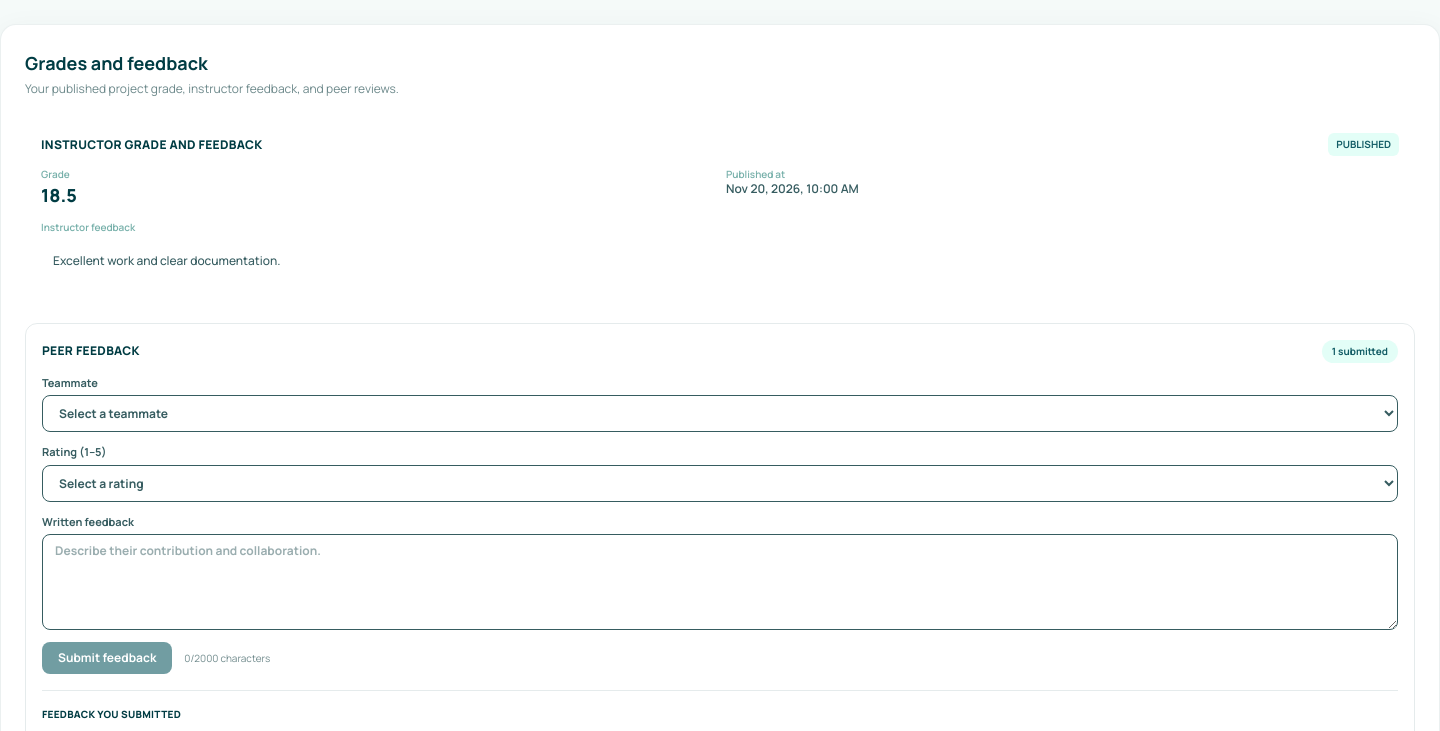
Test case: ProjectFeedbackPanel › submits and updates peer feedback only for eligible teammates
The width and height of the screenshot is (1440, 731).
expect the text "1 submitted" is shown: met, box [1322,340,1398,363]
Select "Bob Teammate (already submitted)" in the dropdown named "Teammate to review". click: (720, 414)
box: [42,395,1398,432]
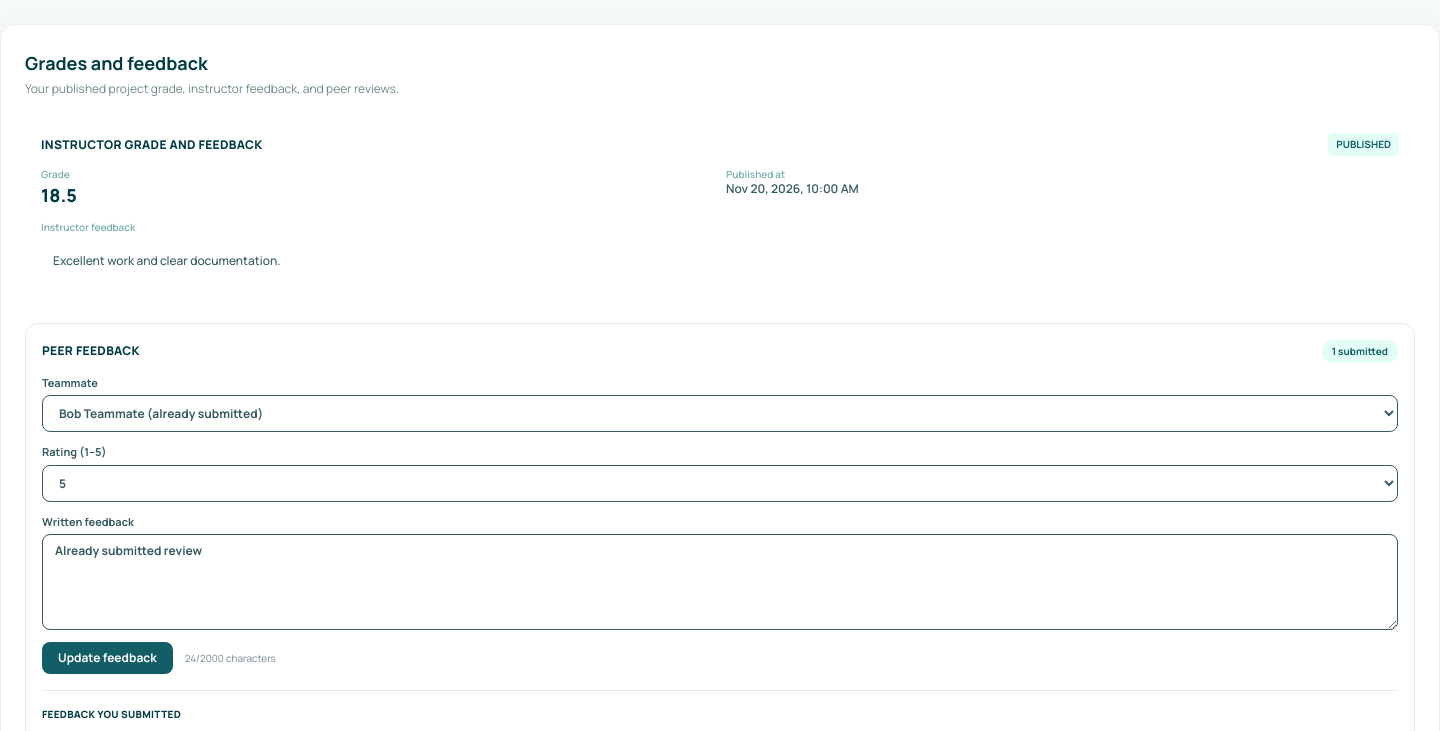
expect the dropdown named "Peer rating" shows "5": met, box [42,465,1398,502]
expect the text box named "Peer feedback comment" holds "Already submitted review": met
expect the button "Update feedback" is shown: met, box [42,642,173,674]
Replace the text in the text box named "Peer feedback comment" with "Improved collaboration". click: (720, 582)
box: [42,534,1398,630]
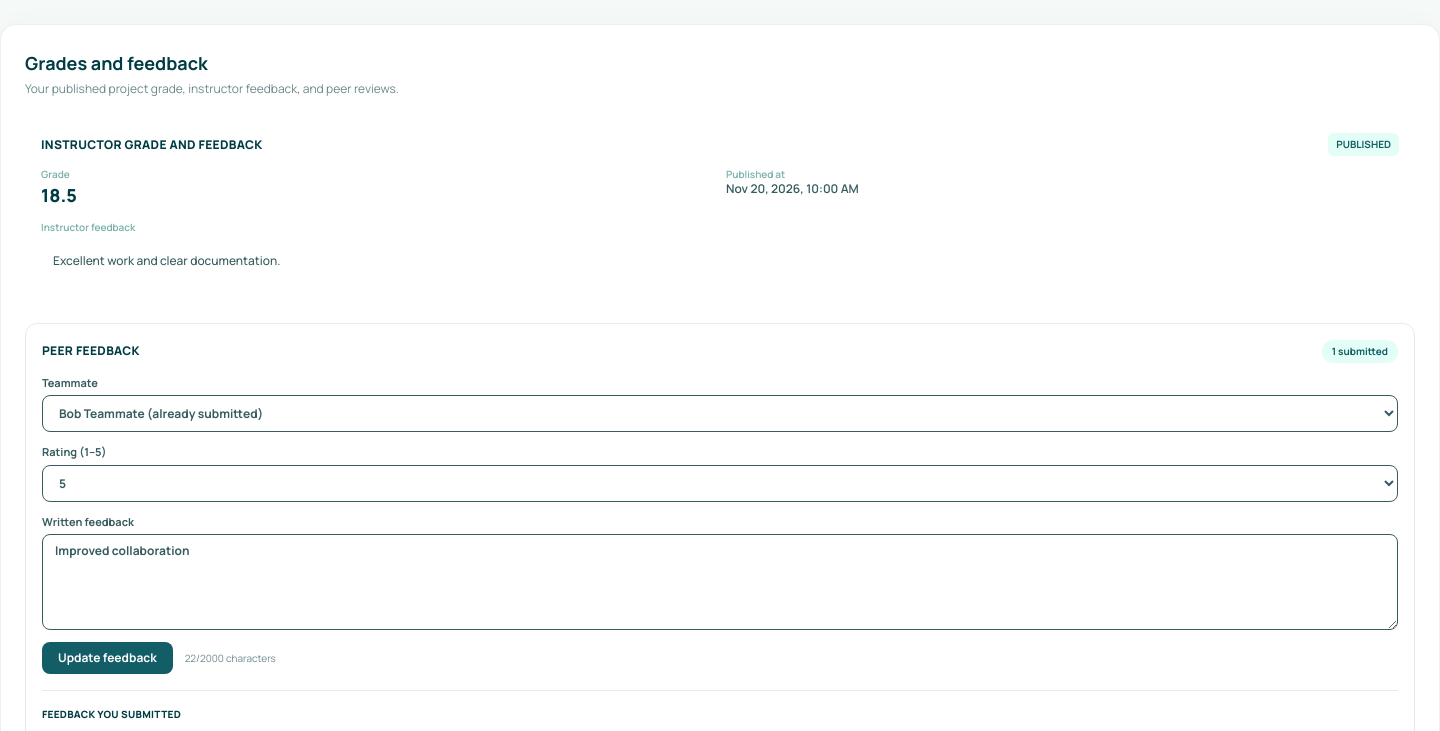
Click the button "Update feedback". click: (107, 658)
box: [42,642,173,674]
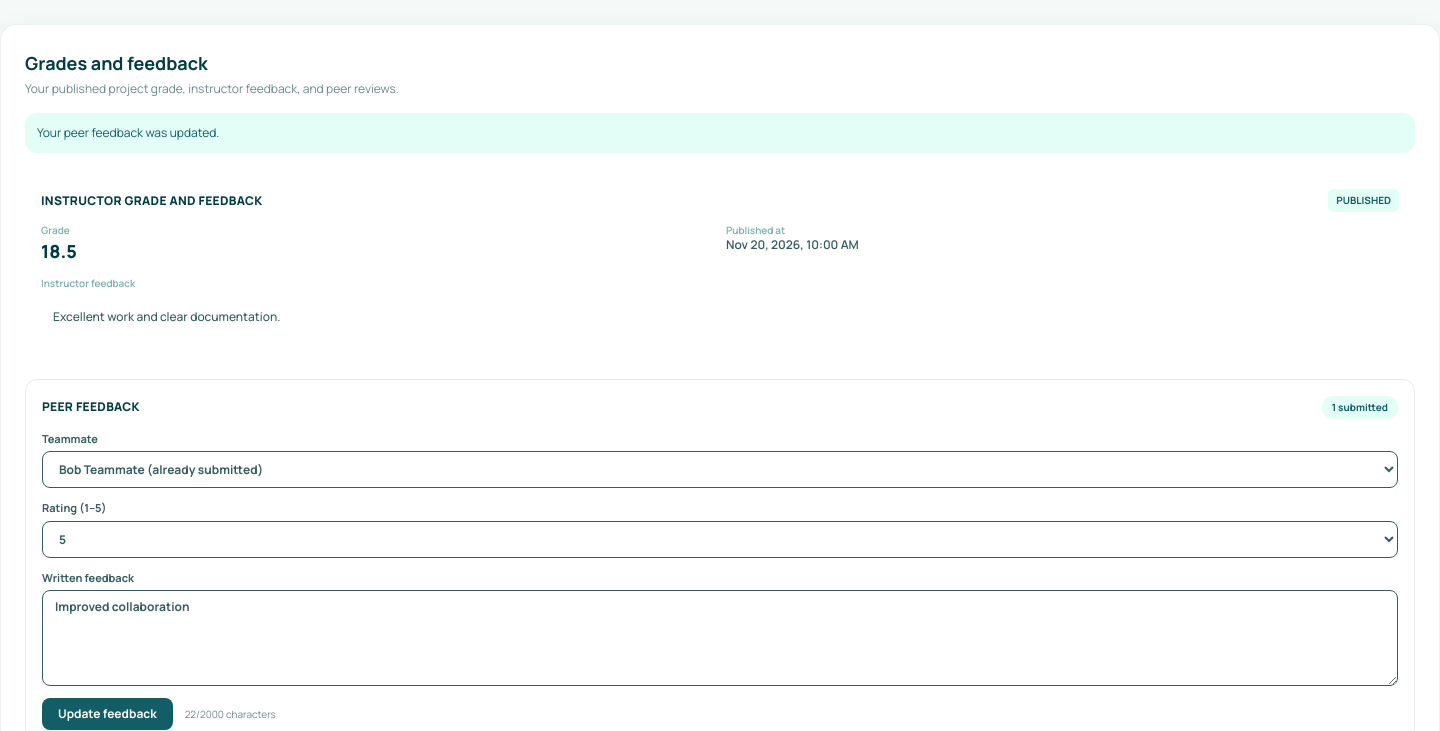
expect the text "Your peer feedback was updated." is shown: met, box [25,113,1415,153]
